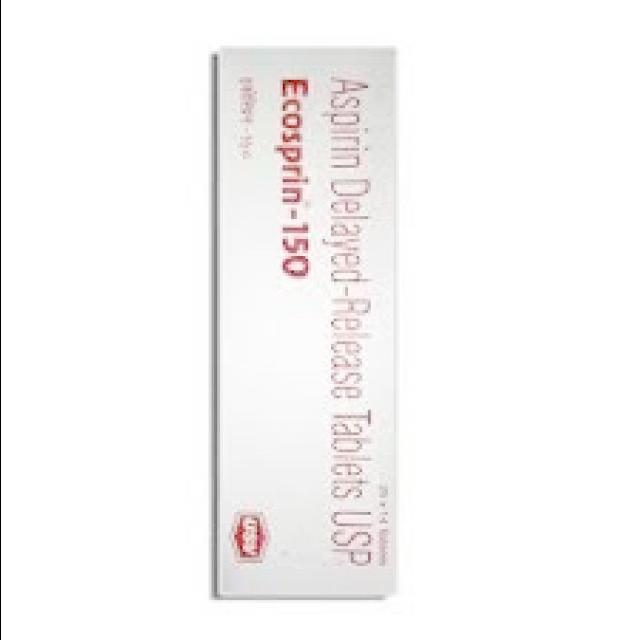authentic: (195, 37, 413, 615)
